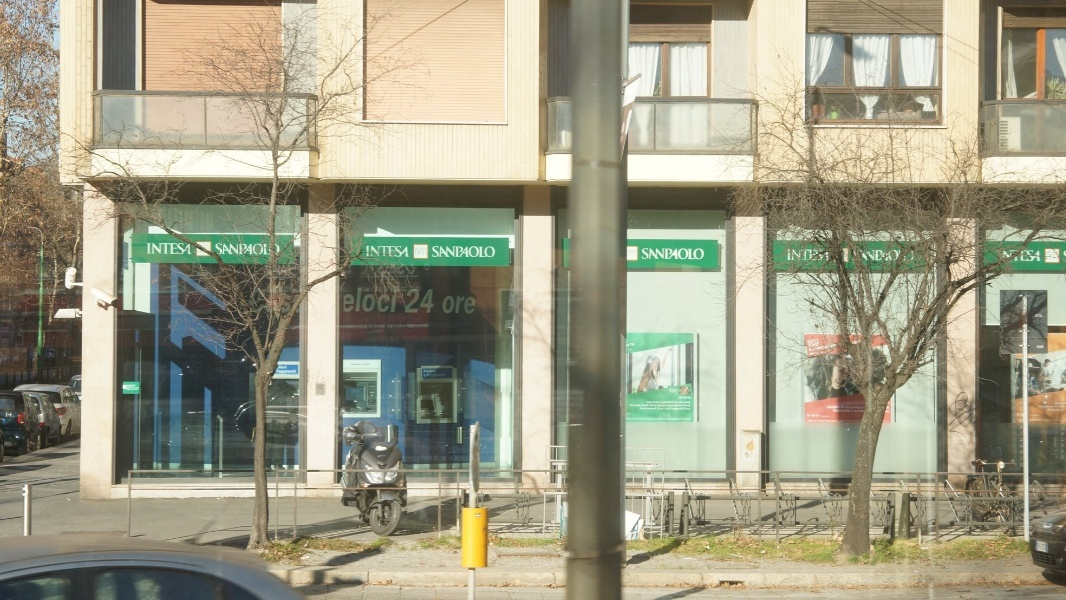text: (353, 288, 368, 313), (369, 288, 384, 313), (417, 289, 432, 314), (385, 288, 398, 313), (817, 335, 832, 356), (833, 335, 848, 356), (849, 335, 863, 356), (449, 296, 464, 315), (817, 401, 832, 419), (833, 401, 848, 419), (849, 401, 864, 419), (865, 401, 880, 419), (1025, 399, 1040, 416), (1041, 399, 1056, 416), (406, 289, 416, 314), (343, 288, 352, 313), (641, 396, 656, 411), (657, 396, 672, 411), (673, 396, 688, 411), (465, 296, 476, 315), (865, 249, 880, 262), (881, 249, 896, 262), (897, 249, 912, 262), (807, 335, 816, 356), (801, 250, 816, 262), (1009, 250, 1024, 262), (689, 249, 705, 260), (1026, 250, 1040, 262), (433, 246, 448, 257), (449, 246, 464, 257), (465, 246, 480, 257), (481, 246, 496, 257), (369, 246, 384, 257), (385, 246, 400, 257), (225, 243, 240, 254), (241, 243, 256, 254), (161, 243, 176, 254), (177, 243, 192, 254), (657, 249, 672, 260), (673, 249, 688, 260), (629, 396, 640, 411), (881, 401, 890, 419), (642, 249, 656, 260), (1057, 399, 1066, 416), (788, 250, 800, 262), (817, 250, 829, 262), (808, 401, 816, 419), (257, 243, 270, 254), (147, 243, 160, 254), (853, 249, 864, 262), (1016, 399, 1024, 416), (433, 369, 446, 378), (278, 364, 288, 374), (273, 243, 281, 255), (443, 296, 448, 315), (401, 246, 409, 257), (216, 243, 224, 254), (289, 364, 297, 374), (424, 369, 432, 378), (1003, 250, 1008, 262), (433, 289, 435, 314), (268, 243, 272, 255), (689, 396, 692, 411), (913, 249, 916, 262), (627, 413, 640, 415), (673, 389, 678, 394), (1025, 250, 1027, 262), (366, 246, 368, 257), (668, 389, 672, 394)
